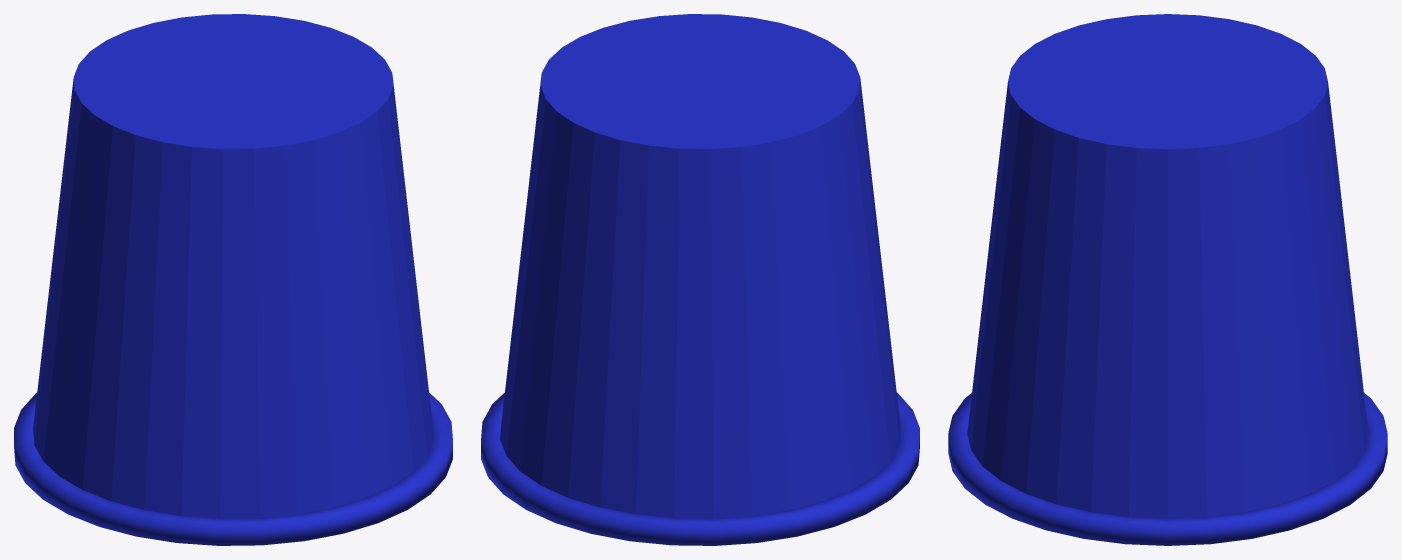
File: secchiello.obj
The picture shows the model from 3 angles, left to right: view 1: azimuth 30°, elevation 25°; view 2: azimuth 150°, elevation 25°; view 3: azimuth 270°, elevation 25°; orthographic projection.
Visible parts, largest first — view 1: Cylinder, Cylinder.001; view 2: Cylinder, Cylinder.001; view 3: Cylinder, Cylinder.001.
Part boxes in pixels (bbox=[...]): Cylinder: bbox=[33, 14, 433, 518]; Cylinder.001: bbox=[14, 392, 452, 545]; Cylinder: bbox=[500, 14, 900, 518]; Cylinder.001: bbox=[481, 392, 919, 545]; Cylinder: bbox=[967, 14, 1368, 518]; Cylinder.001: bbox=[948, 393, 1387, 545].
Size of the model in its own units: 0.8574 by 0.7993 by 0.8574.
